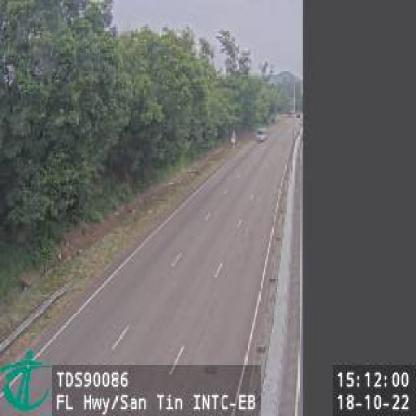Car: (256, 125, 270, 143)
